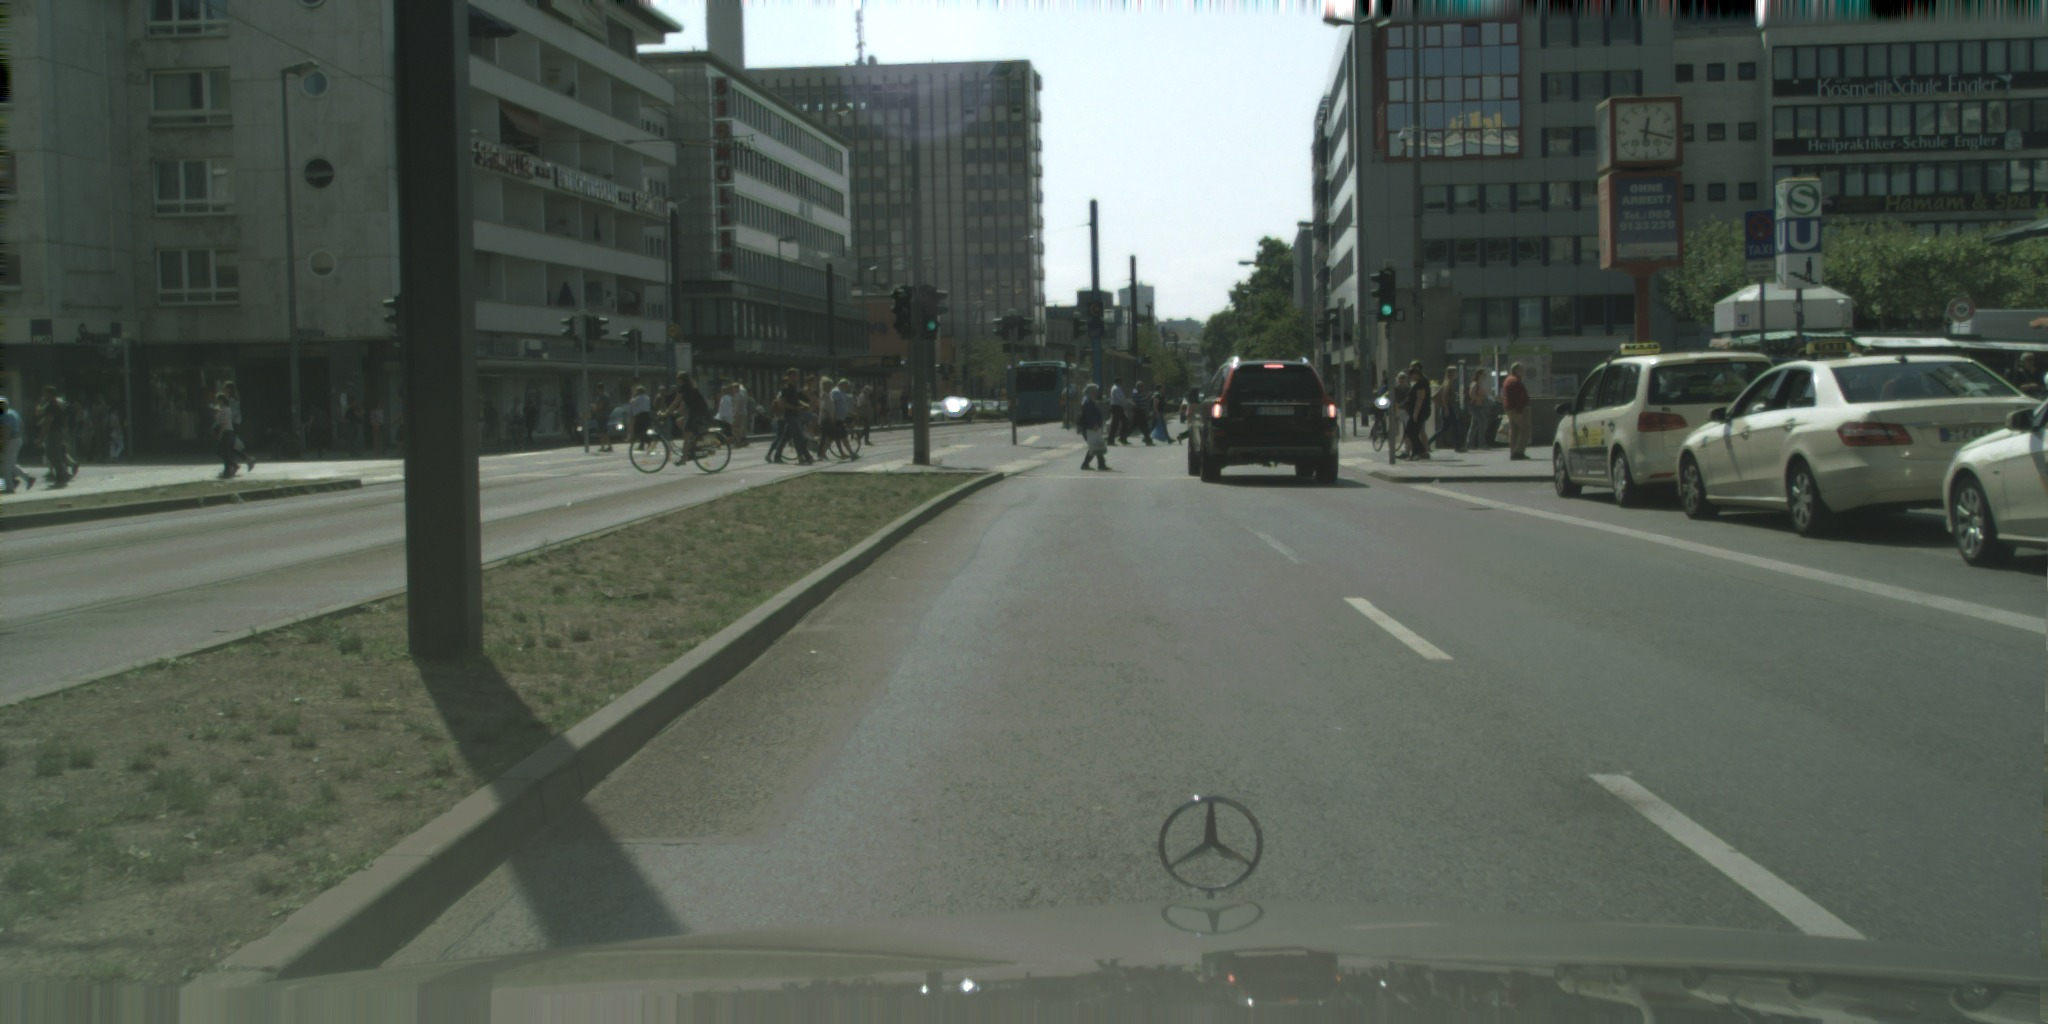bicycle: (629, 411, 733, 475), (779, 409, 863, 461), (1371, 397, 1408, 453)
bus: (1007, 360, 1094, 427)
car: (1676, 337, 2011, 539), (1551, 342, 1778, 509), (1186, 355, 1342, 487), (1941, 393, 2048, 570), (574, 399, 664, 445), (1178, 394, 1216, 424)
person: (1485, 360, 1533, 460), (209, 379, 258, 474), (1425, 365, 1469, 455), (774, 366, 813, 464), (1075, 382, 1114, 471), (819, 378, 860, 461), (216, 391, 242, 481), (765, 375, 792, 465), (1465, 366, 1493, 451), (1120, 380, 1156, 446), (1142, 383, 1177, 446), (2008, 351, 2048, 404), (390, 390, 421, 453), (1106, 376, 1132, 446), (817, 376, 837, 458), (308, 398, 335, 460), (630, 385, 651, 452), (595, 383, 614, 452), (347, 395, 366, 458), (370, 401, 387, 454), (652, 384, 671, 421), (875, 385, 891, 431), (1060, 384, 1074, 430), (666, 384, 682, 409), (1177, 426, 1197, 446), (900, 388, 909, 423)
rider: (657, 372, 710, 467), (796, 373, 822, 441)
